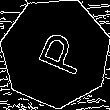P_NW: (26, 26, 86, 79)
